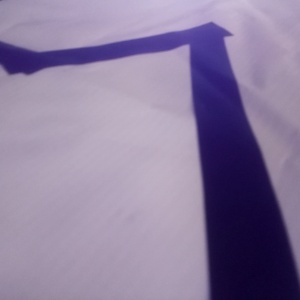bottom_right: (71, 66, 186, 121)
